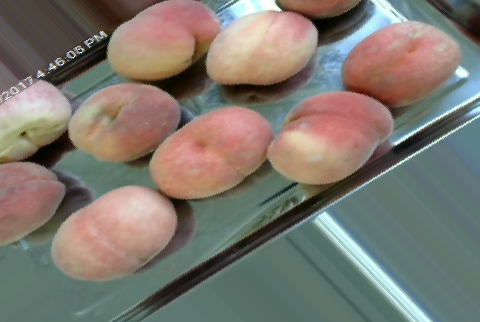Peach: (47, 184, 173, 280), (270, 90, 391, 184), (150, 105, 270, 198), (339, 19, 459, 106), (106, 0, 218, 80), (70, 80, 178, 162), (205, 8, 318, 85), (0, 80, 70, 163), (0, 160, 64, 250)
